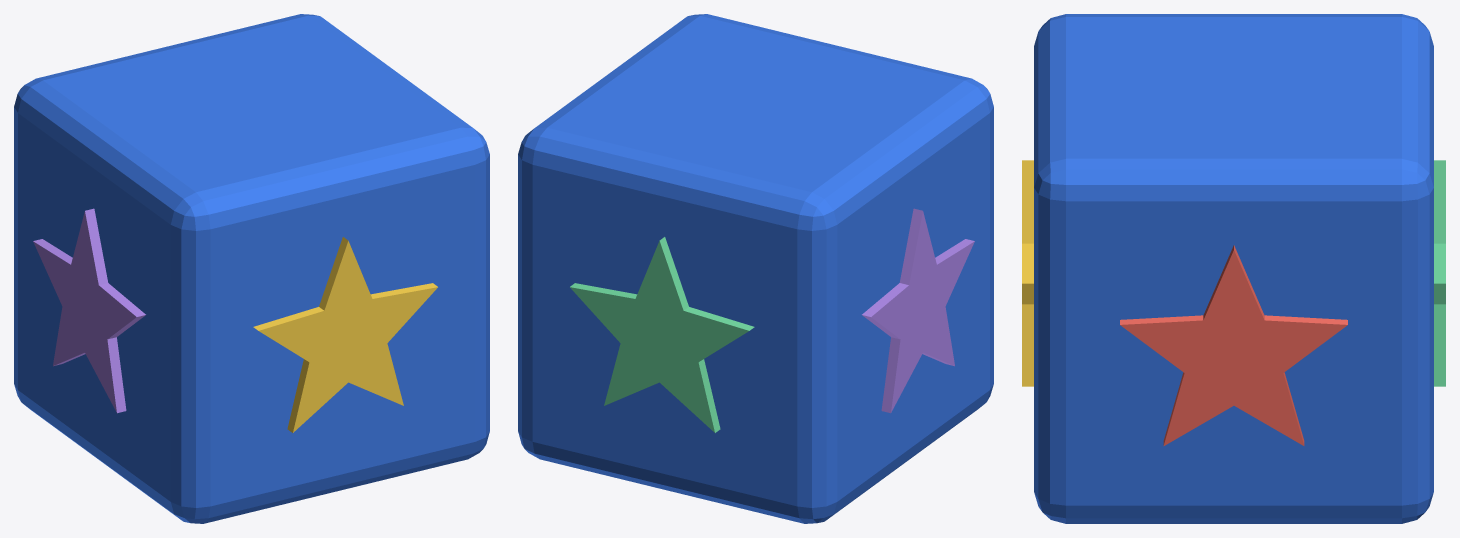
File: Prop_Playroom_ToyBlock.fbx
The picture shows the model from 3 angles, left to right: view 1: azimuth 30°, elevation 25°; view 2: azimuth 150°, elevation 25°; view 3: azimuth 270°, elevation 25°; orthographic projection. The views are drawn at different scales.
Visible parts, largest first — view 1: Prop_Playroom_ToyBlock; view 2: Prop_Playroom_ToyBlock; view 3: Prop_Playroom_ToyBlock.
Part boxes in pixels (bbox=[...]): Prop_Playroom_ToyBlock: bbox=[14, 14, 489, 523]; Prop_Playroom_ToyBlock: bbox=[518, 14, 993, 523]; Prop_Playroom_ToyBlock: bbox=[1022, 14, 1445, 523].
Bounding box in the file's own units: 1.06 × 1 × 1.06.
